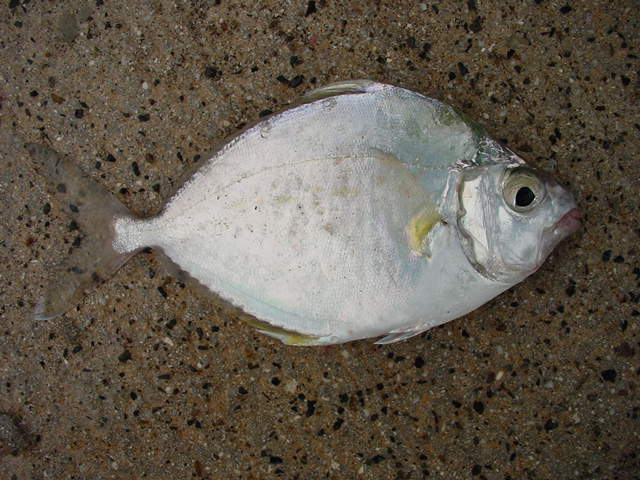fish: (16, 72, 593, 354)
